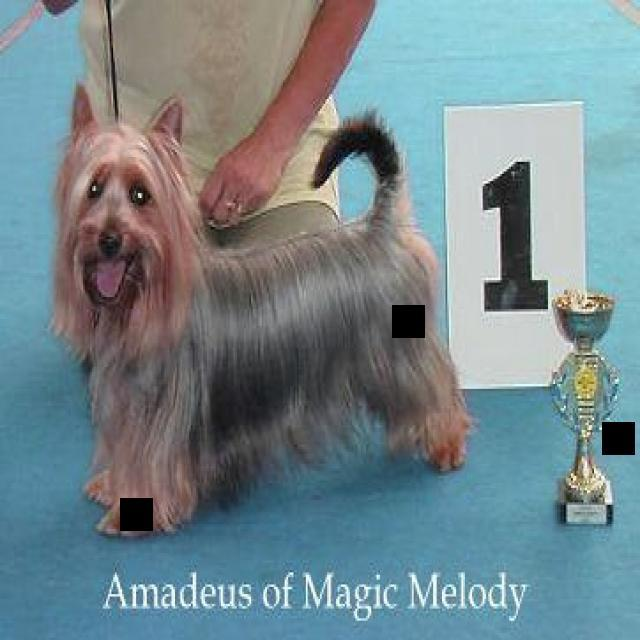adult_dog: (50, 79, 477, 542)
